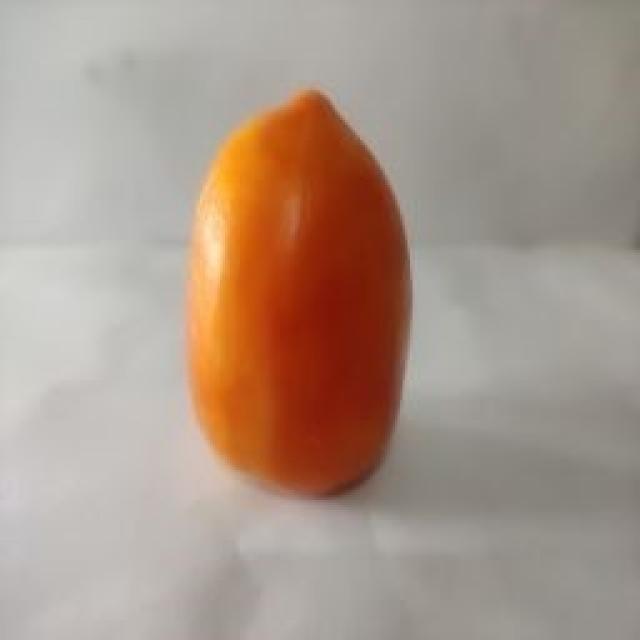Ripe: (175, 86, 420, 505)
